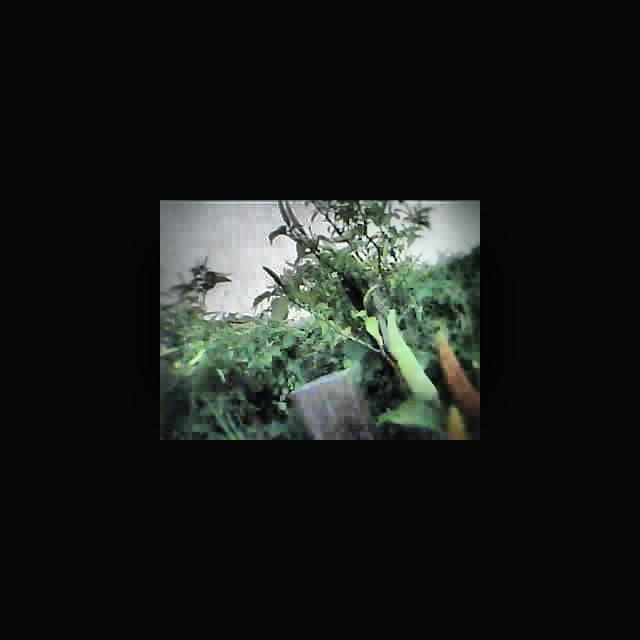Cabai: (438, 334, 480, 405)
